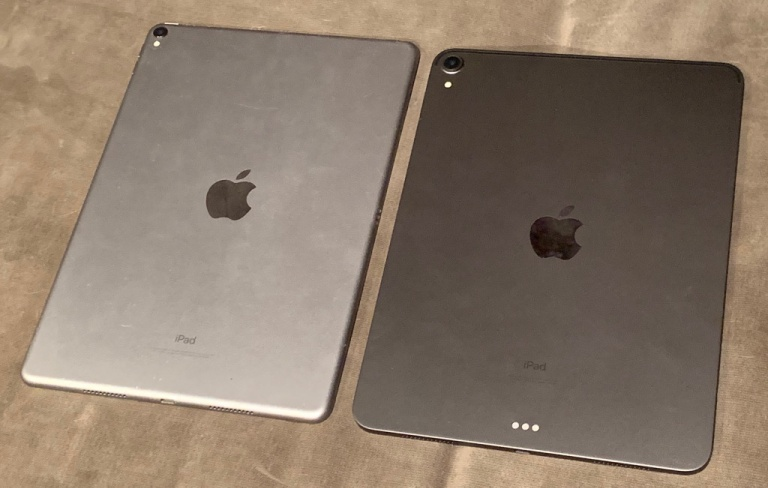apple: (192, 151, 285, 223), (524, 196, 594, 290)
